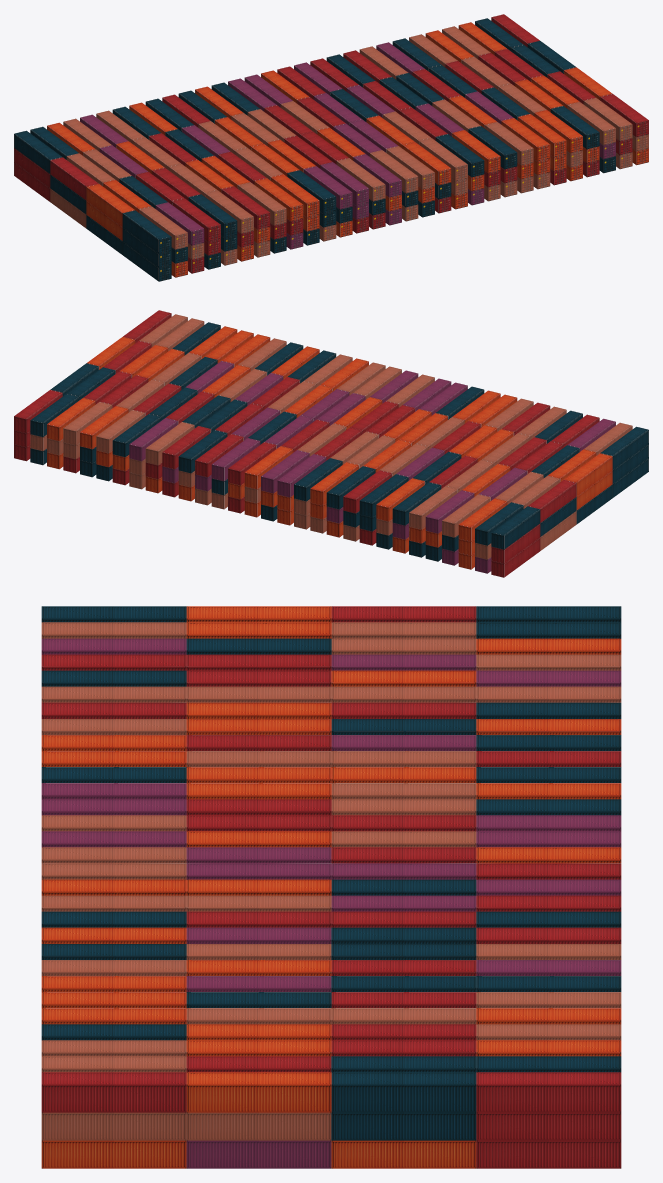
Rendered from ContainerStack.fbx.
3 views of the same model, one above another, from view 1: azimuth 30°, elevation 25°; view 2: azimuth 150°, elevation 25°; view 3: azimuth 270°, elevation 25° (orthographic). The views are drawn at different scales.
Visible parts, largest first — view 1: Container 40ft.362; view 2: Container 40ft.362; view 3: Container 40ft.362.
Boxes of the visible parts, left/top/right/bottom form: Container 40ft.362: left=14, top=14, right=648, bottom=281; Container 40ft.362: left=14, top=310, right=648, bottom=577; Container 40ft.362: left=41, top=606, right=621, bottom=1168.
Size of the model in its own units: 9524 by 780 by 4880.
